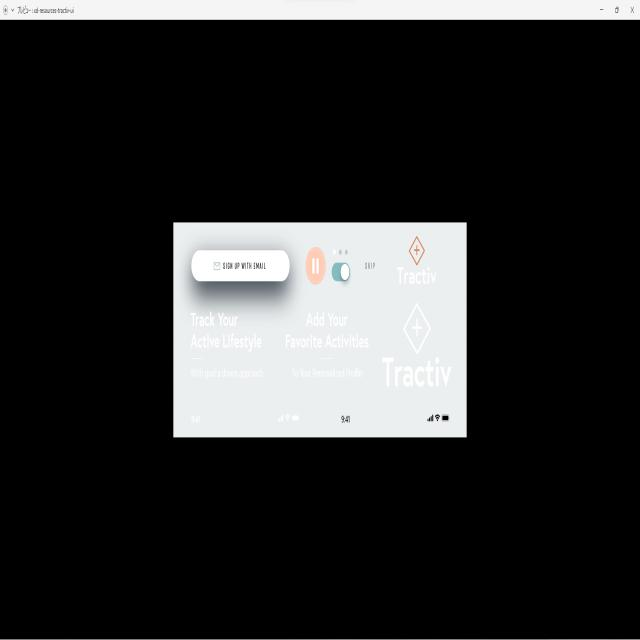toggle: (332, 262, 351, 284)
